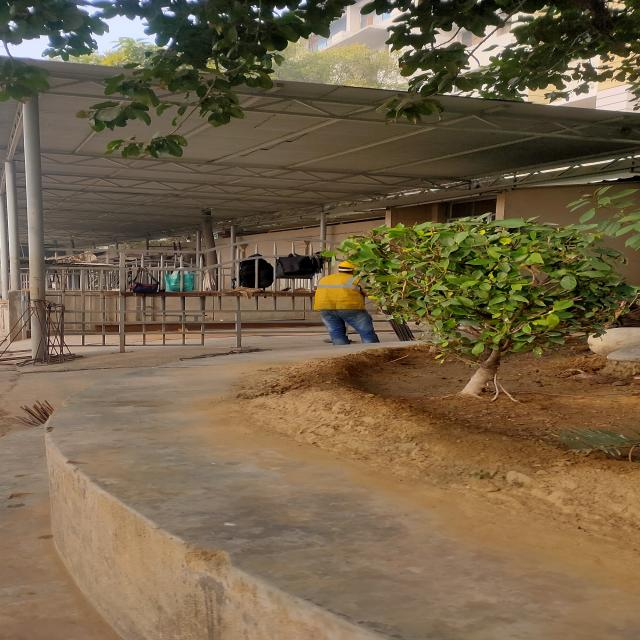safe: (312, 259, 378, 344)
